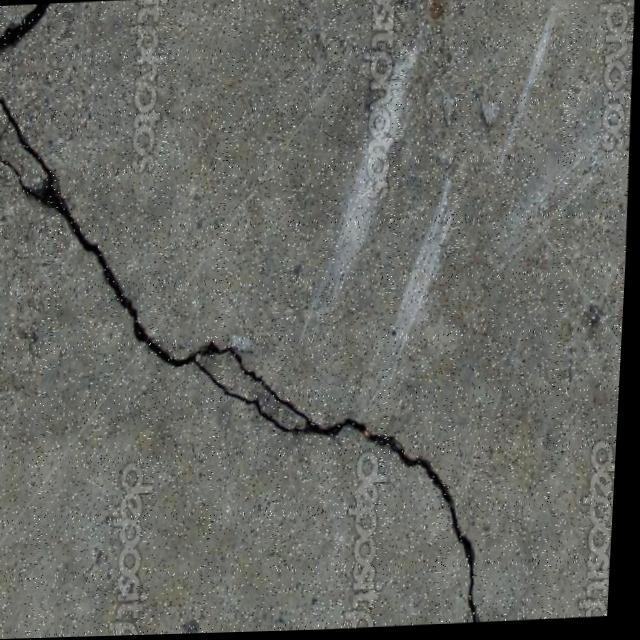Crack: (0, 66, 516, 640), (0, 3, 57, 58)
